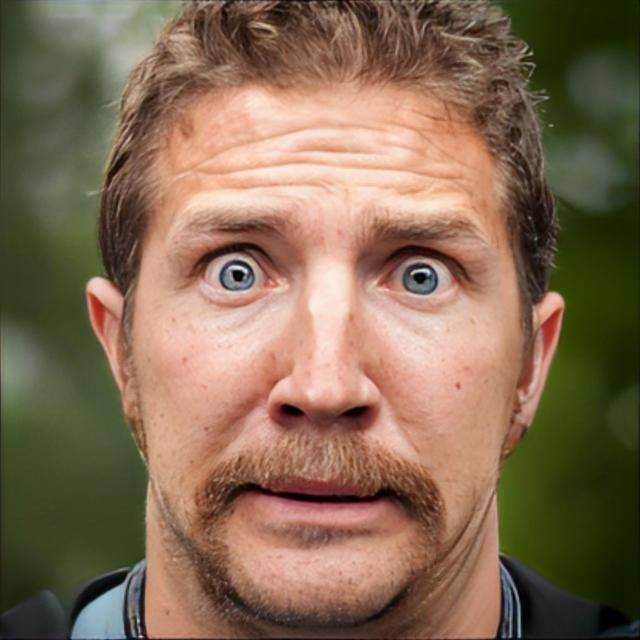Fear: (130, 66, 520, 628)
